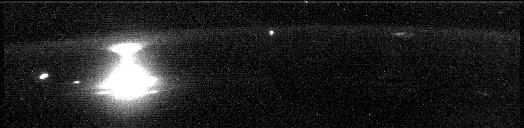positive: (102, 38, 148, 63)
